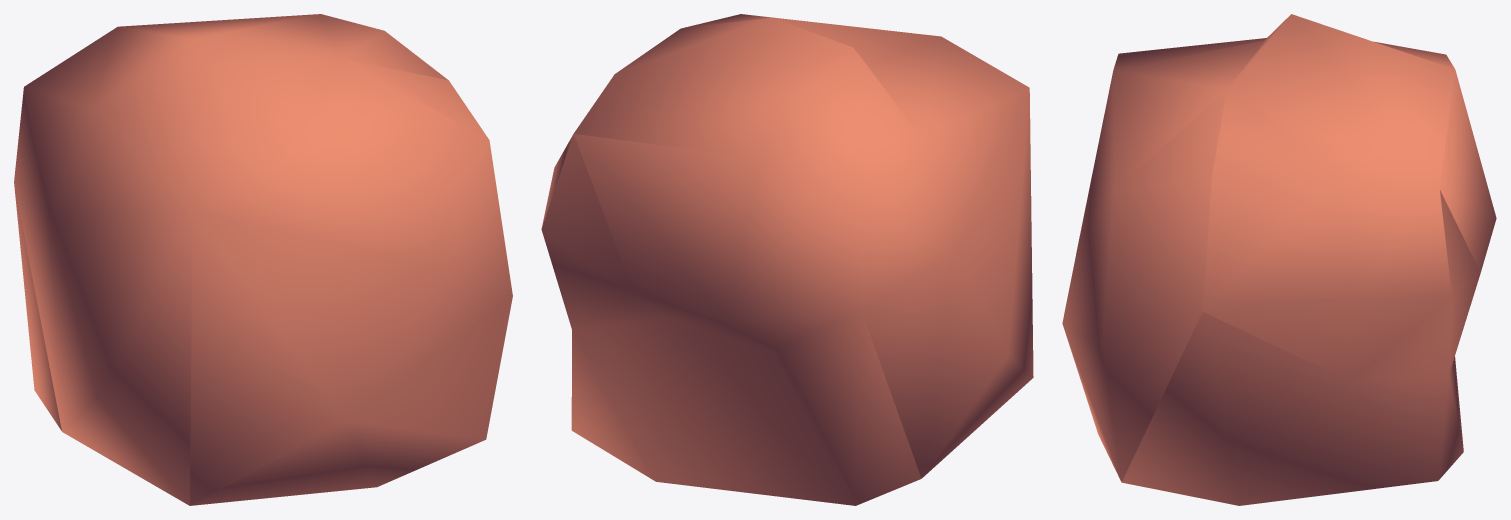
The model's file is lithium-silicate.glb.
The picture shows the model from 3 angles, left to right: view 1: azimuth 30°, elevation 25°; view 2: azimuth 150°, elevation 25°; view 3: azimuth 270°, elevation 25°; orthographic projection. The views are drawn at different scales.
Visible parts, largest first — view 1: Cube; view 2: Cube; view 3: Cube.
Part boxes in pixels (x1,y1,x2,y2): Cube: (14,14,512,505); Cube: (541,14,1033,505); Cube: (1062,14,1496,505).
Bounding box in the file's own units: 1.39 × 1.46 × 1.37.
